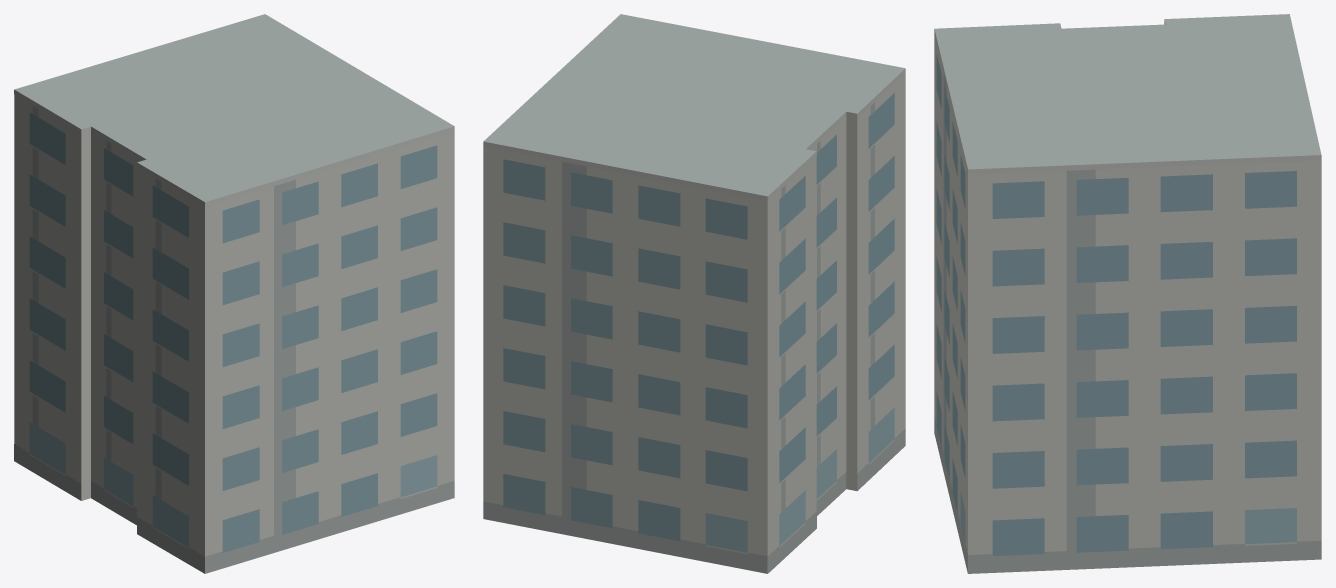
Rendered from survey-upis-32546814.glb.
The picture shows the model from 3 angles, left to right: view 1: azimuth 30°, elevation 25°; view 2: azimuth 150°, elevation 25°; view 3: azimuth 270°, elevation 25°; orthographic projection. The views are drawn at different scales.
Parts seen in each view (by area): view 1: survey-upis-32546814.tmp; view 2: survey-upis-32546814.tmp; view 3: survey-upis-32546814.tmp.
Part boxes in pixels (<box>): survey-upis-32546814.tmp: <box>14,14,454,573</box>; survey-upis-32546814.tmp: <box>483,14,905,573</box>; survey-upis-32546814.tmp: <box>934,14,1321,573</box>.
Bounding box in the file's own units: 15.09 × 18.3 × 15.88.
